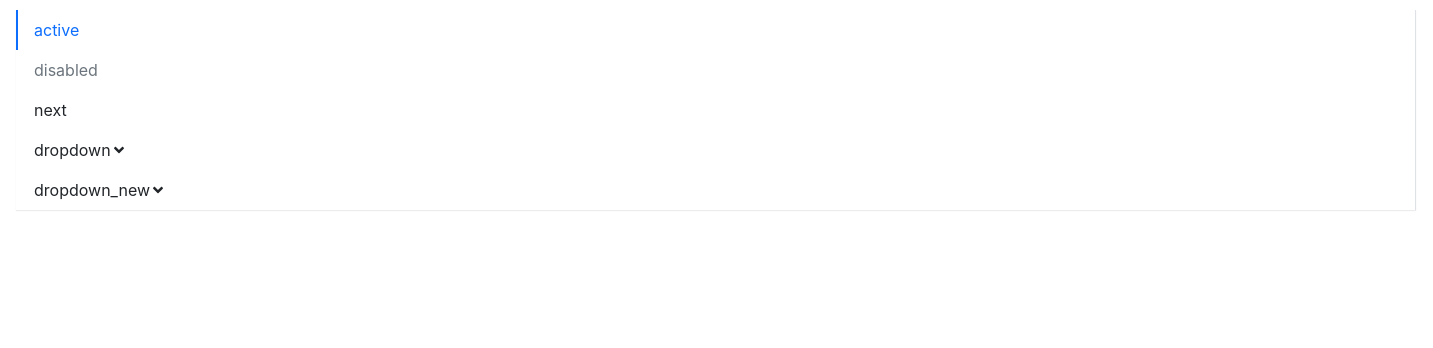
Test: test Menu and MenuItem component › should display submenu when click submenu title in vertical mode
Expected: the text "dropdown_1" is not shown
Click the text "dropdown" at x=79, y=150, box 34,140 -> 124,160
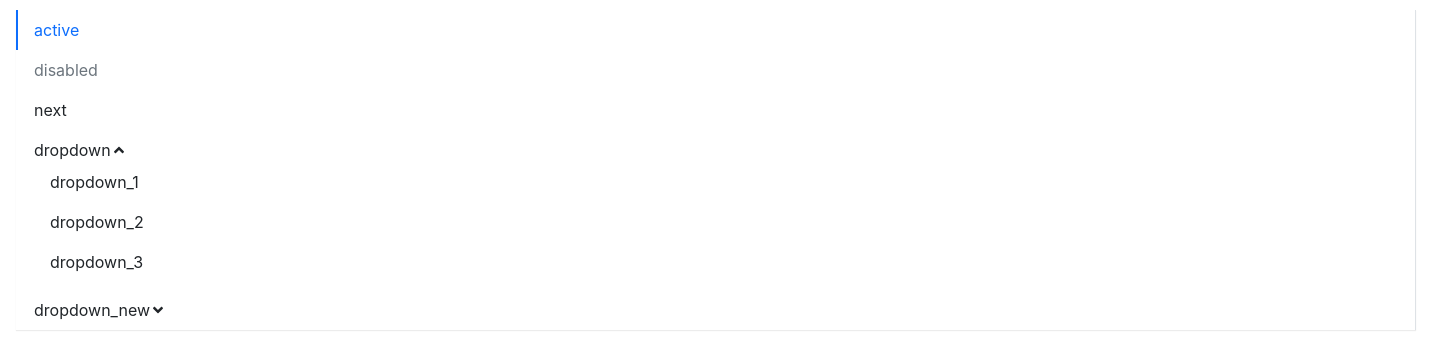
Result: the list item "dropdown_1" is shown at 50,172 -> 139,192
Click the text "dropdown" at x=79, y=150, box 34,140 -> 124,160
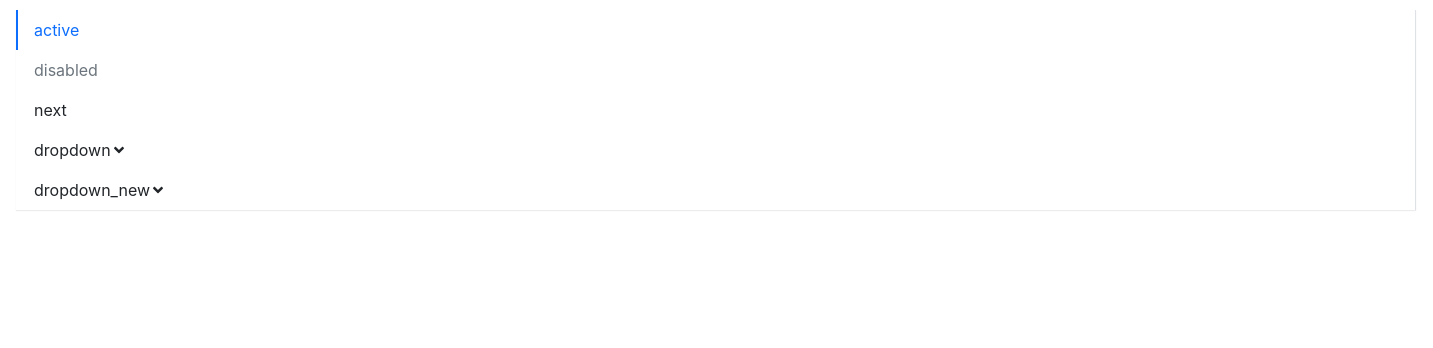
Result: the list item "dropdown_1" is gone
